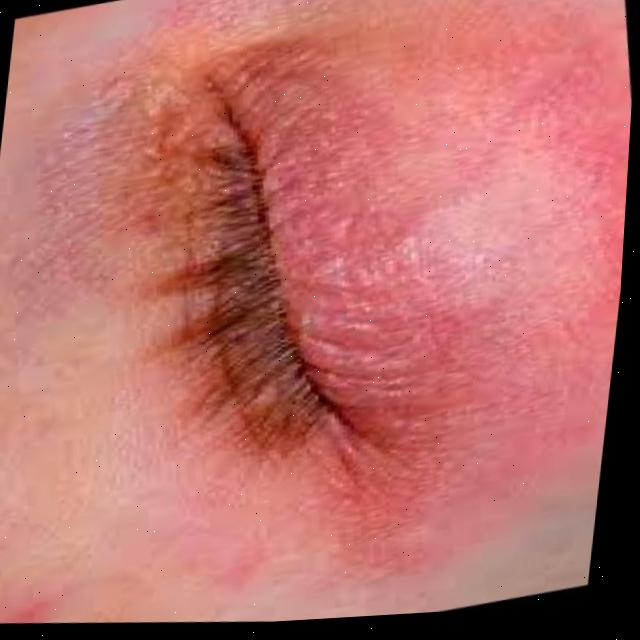Eczema: (16, 24, 636, 614)
